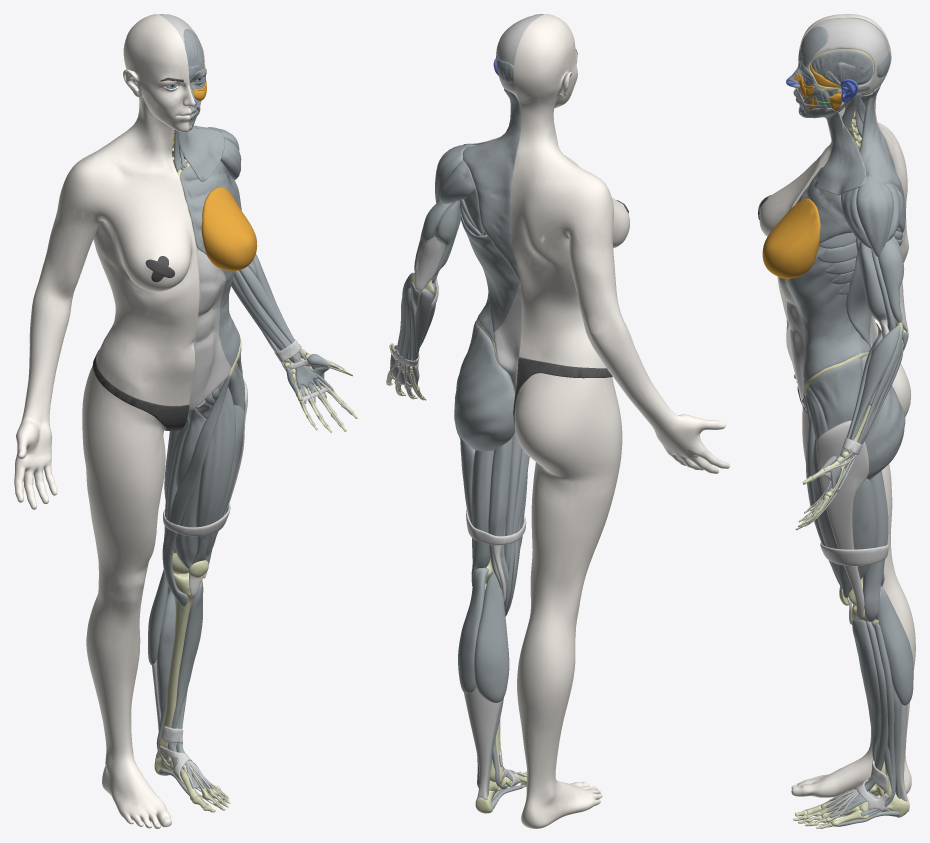
The model's file is female_anatomy_muscles.glb.
The picture shows the model from 3 angles, left to right: view 1: azimuth 30°, elevation 25°; view 2: azimuth 150°, elevation 25°; view 3: azimuth 270°, elevation 25°; orthographic projection.
Parts seen in each view (by area): view 1: Object_5; view 2: Object_5; view 3: Object_5.
Part boxes in pixels (left/top/right/bottom): Object_5: left=14, top=14, right=357, bottom=828; Object_5: left=386, top=14, right=729, bottom=828; Object_5: left=758, top=14, right=915, bottom=828.
Bounding box in the file's own units: 3.63 × 8.01 × 1.45.
Materials: 3 (3 with a texture image).
